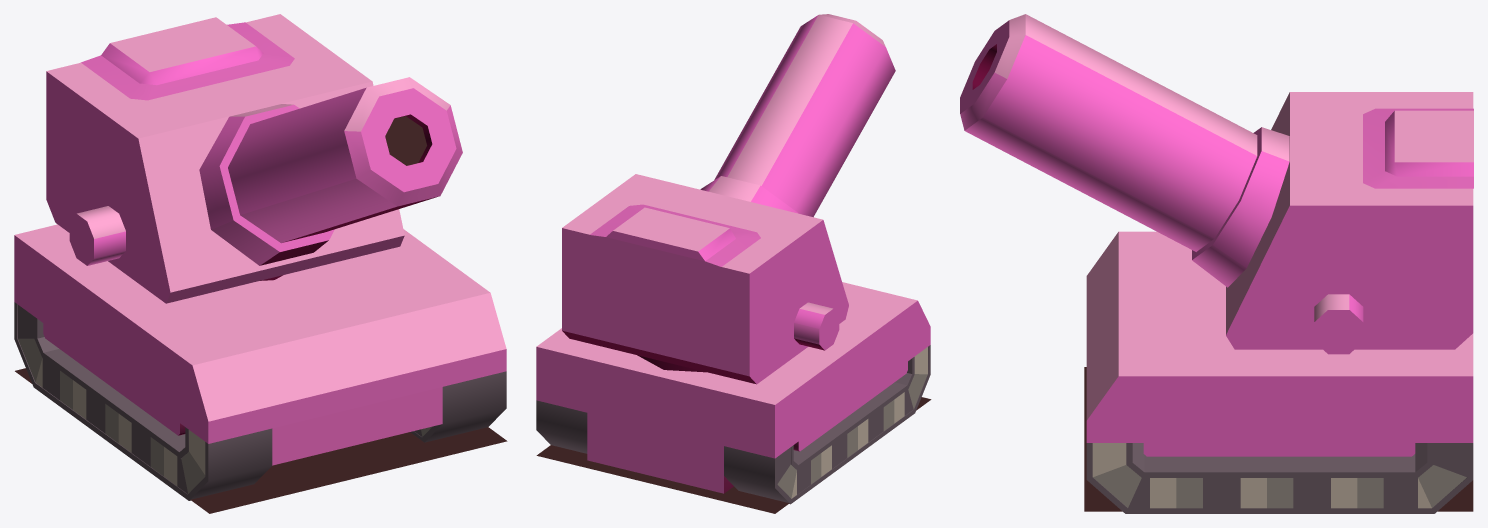
The model's file is ArtillertyMesh.PinkCosmos.glb.
3 views of the same model, side by side, from view 1: azimuth 30°, elevation 25°; view 2: azimuth 150°, elevation 25°; view 3: azimuth 270°, elevation 25° (orthographic). The views are drawn at different scales.
Visible parts, largest first — view 1: ArtillertyMesh.PinkCosmos; view 2: ArtillertyMesh.PinkCosmos; view 3: ArtillertyMesh.PinkCosmos.
Boxes of the visible parts, bbox=[...] form: ArtillertyMesh.PinkCosmos: bbox=[14, 14, 507, 513]; ArtillertyMesh.PinkCosmos: bbox=[536, 14, 931, 513]; ArtillertyMesh.PinkCosmos: bbox=[960, 14, 1473, 513].
Size of the model in its own units: 1.4 by 1.88 by 2.1.
Materials: 1 (1 with a texture image).
